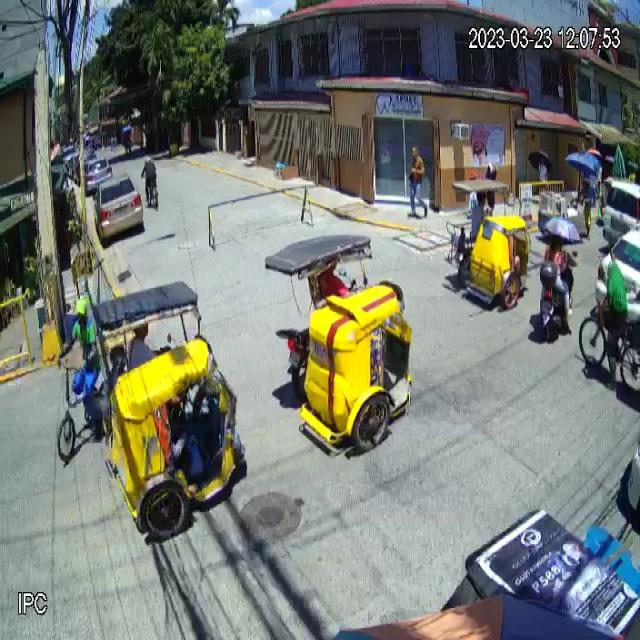Tricycle: (91, 278, 247, 542), (265, 231, 414, 460), (445, 177, 531, 313)
